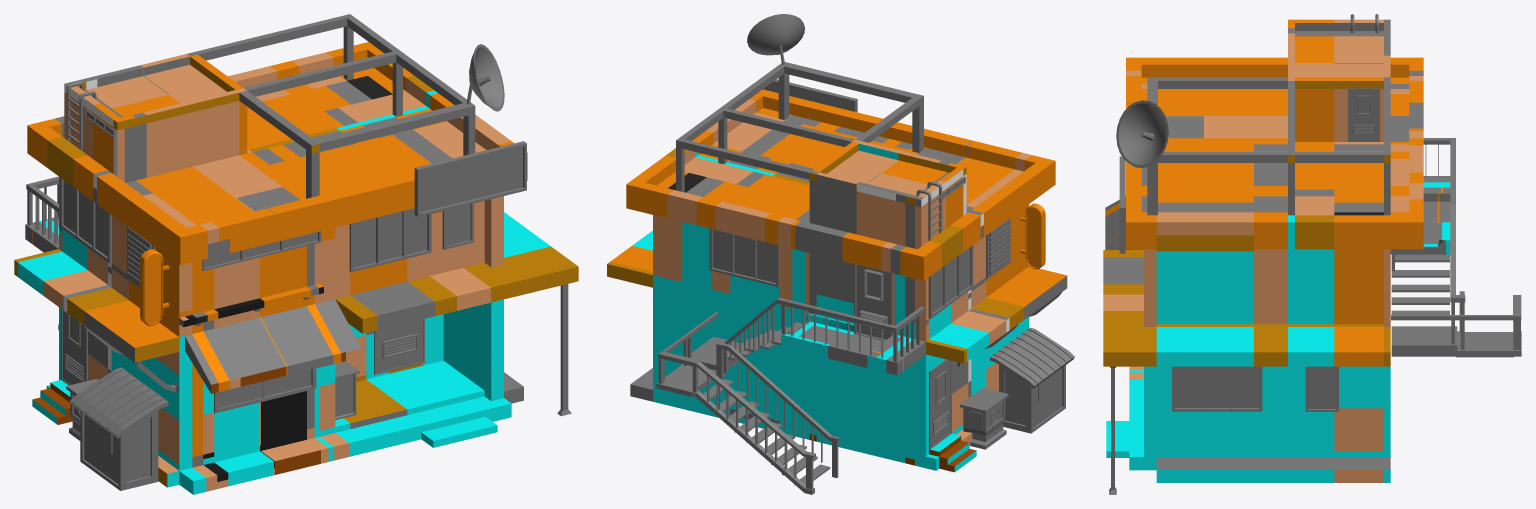
The model's file is Level 1 .obj.
3 views of the same model, side by side, from view 1: azimuth 30°, elevation 25°; view 2: azimuth 150°, elevation 25°; view 3: azimuth 270°, elevation 25° (orthographic). The views are drawn at different scales.
Parts seen in each view (by area): view 1: Level_1_Building:pCube8; view 2: Level_1_Building:pCube8; view 3: Level_1_Building:pCube8.
Part boxes in pixels (x1,y1,x2,y2): Level_1_Building:pCube8: [14, 14, 578, 494]; Level_1_Building:pCube8: [607, 14, 1074, 494]; Level_1_Building:pCube8: [1103, 14, 1521, 494].
Bounding box in the file's own units: 5.51 × 4.53 × 4.79.
